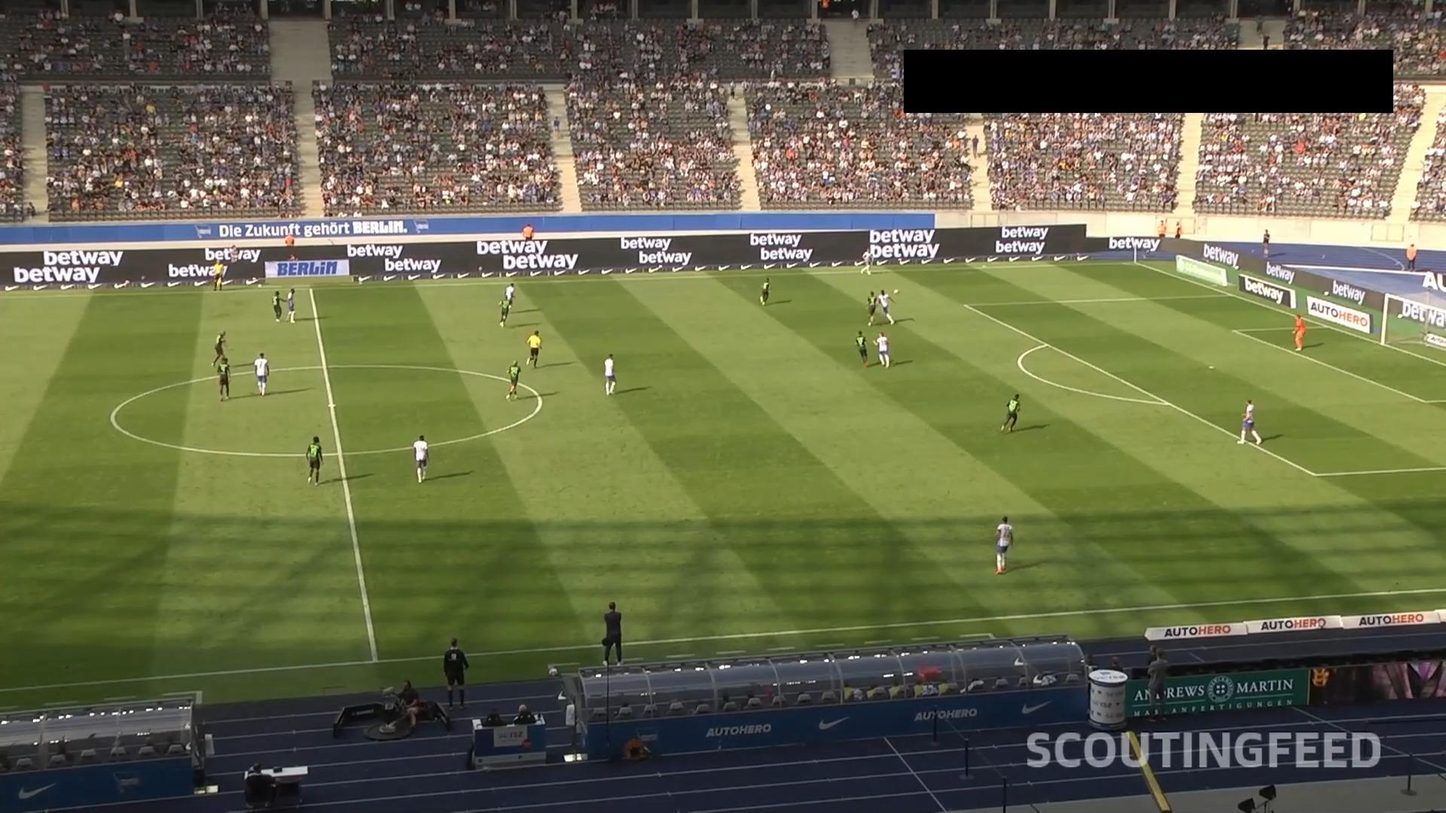ball: (893, 289, 900, 295)
goalkeeper: (1293, 313, 1308, 354)
player: (1236, 398, 1263, 449), (995, 515, 1017, 576), (999, 391, 1023, 436), (306, 434, 325, 490), (410, 434, 431, 484), (216, 356, 236, 407), (871, 329, 893, 371), (874, 288, 897, 326), (852, 329, 873, 369), (254, 353, 272, 396), (602, 352, 619, 397), (495, 294, 516, 328), (505, 361, 523, 400), (213, 327, 229, 368), (283, 285, 299, 325), (862, 291, 879, 327), (859, 248, 876, 279), (760, 276, 774, 305), (273, 291, 285, 323), (505, 282, 516, 305)
referee: (526, 330, 543, 368), (211, 257, 227, 291)
